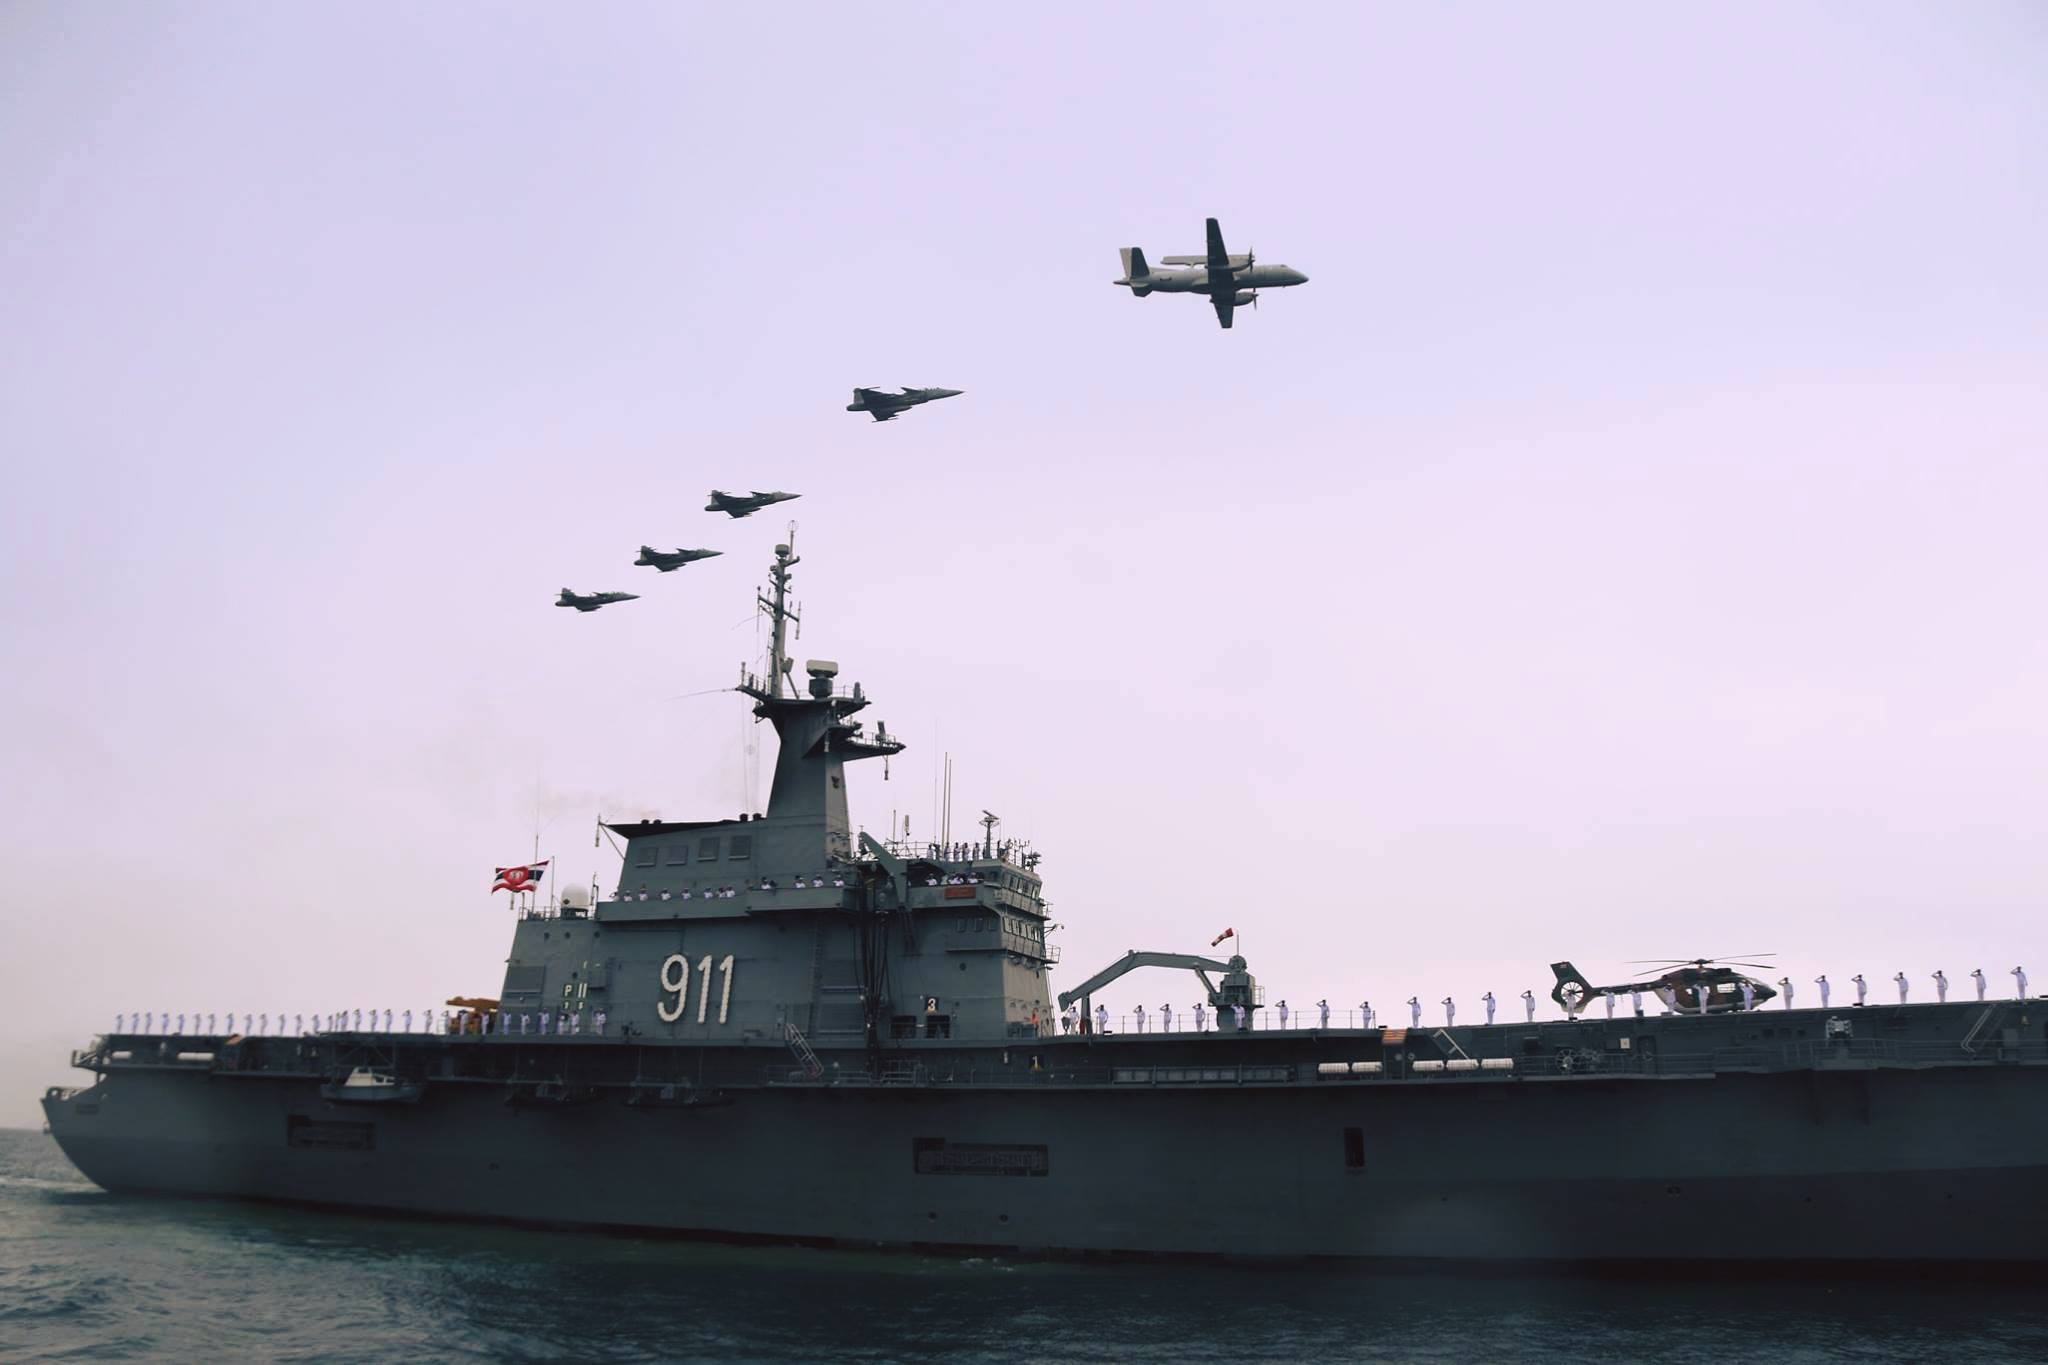airplane: (1102, 206, 1316, 337), (1526, 938, 1788, 1021), (831, 376, 970, 425), (710, 478, 805, 526), (636, 538, 723, 587), (544, 583, 633, 619)
warship: (32, 614, 2048, 1232)
